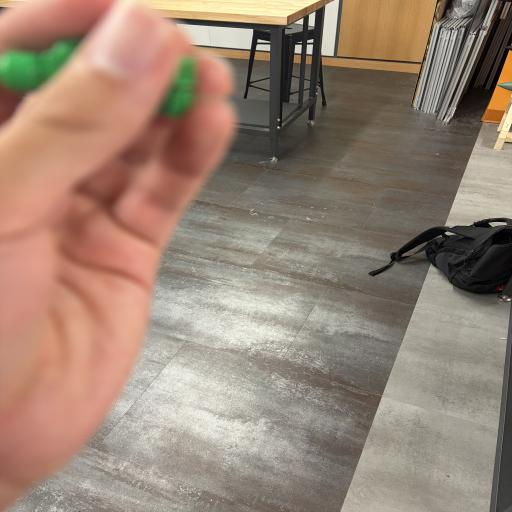Green-Lego: (0, 40, 80, 93), (159, 57, 196, 118)
